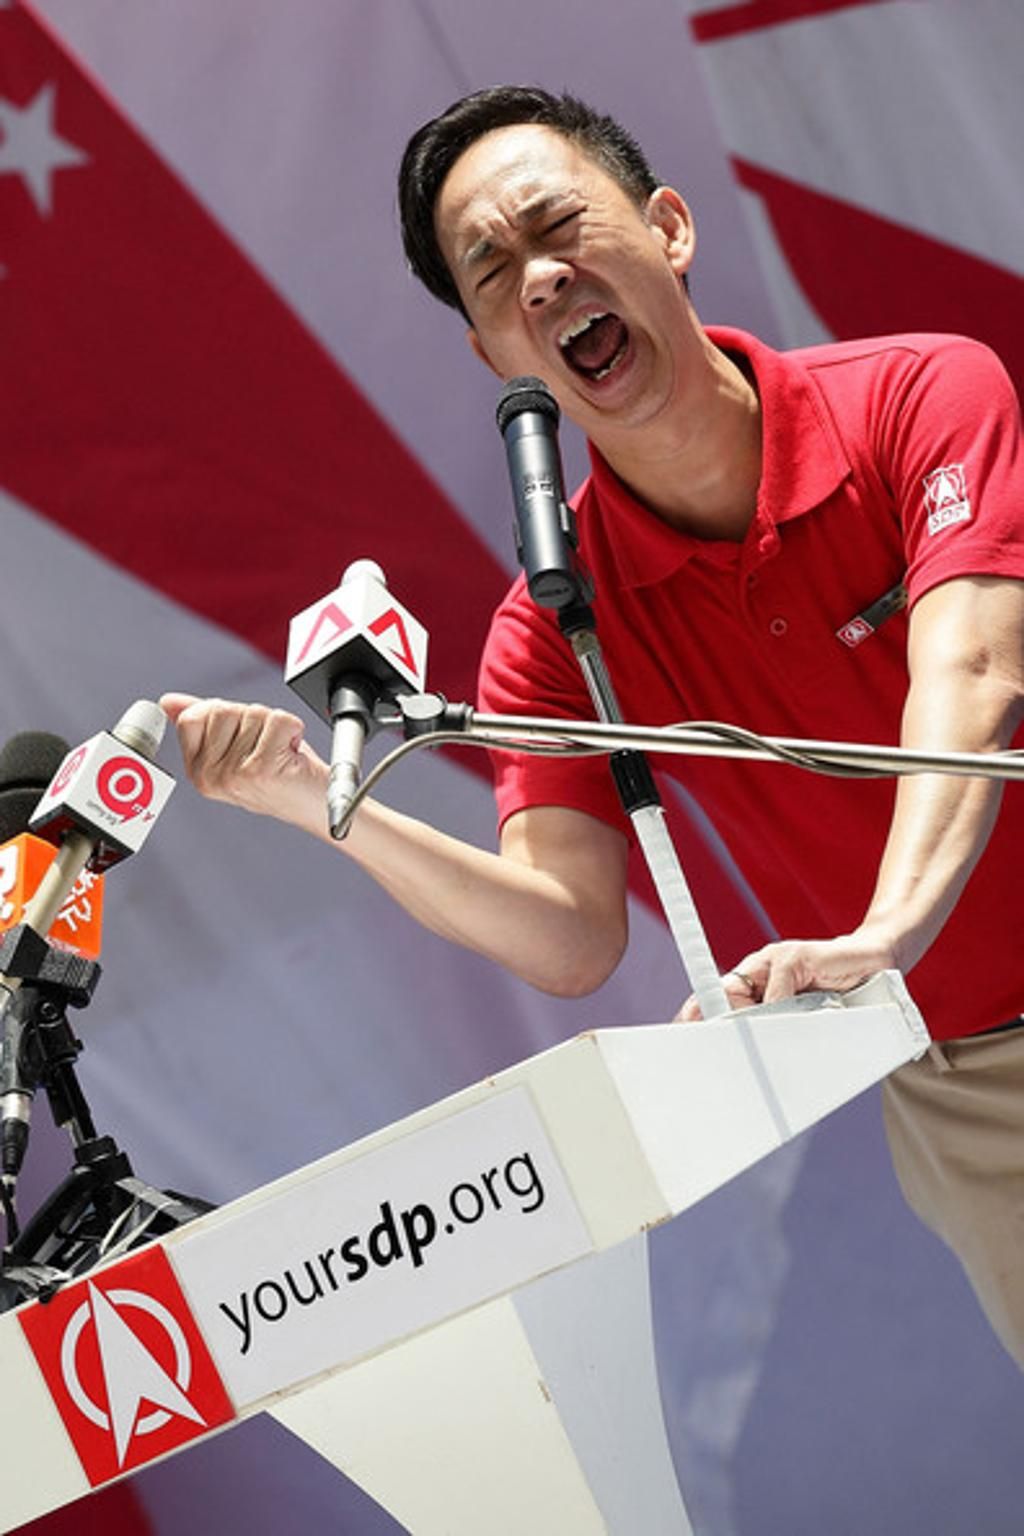face: (432, 114, 681, 441)
